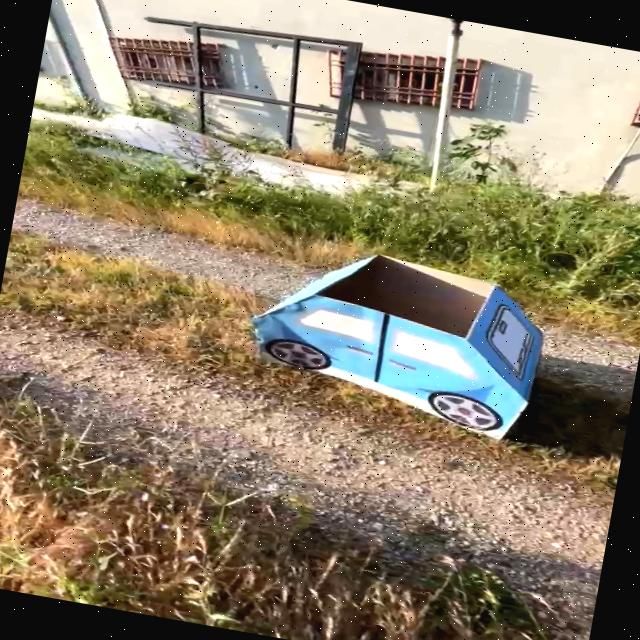blue_car: (199, 214, 638, 482)
